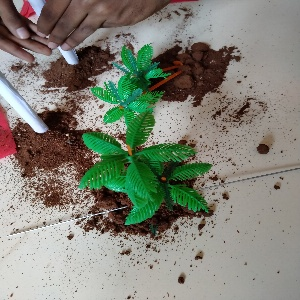plant: (75, 131, 209, 227), (91, 45, 190, 147)
